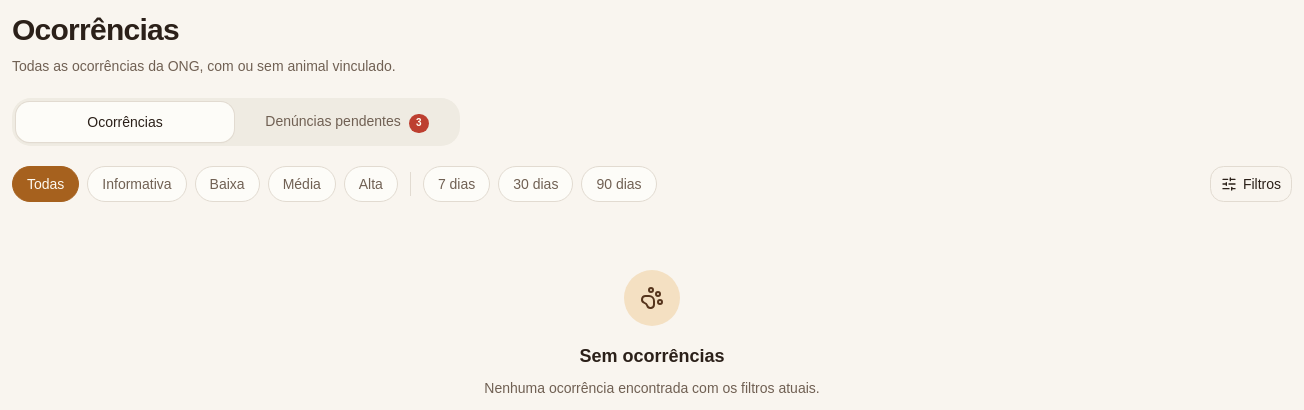
it: OccurrencesListPage › mostra aba de denúncias pendentes para quem tem public_reports.triage
This screenshot has width=1304, height=410.
Expected: the text "Sem denúncias" is not shown
Click the button "Denúncias pendentes 3": (347, 122) 238,102 -> 456,142
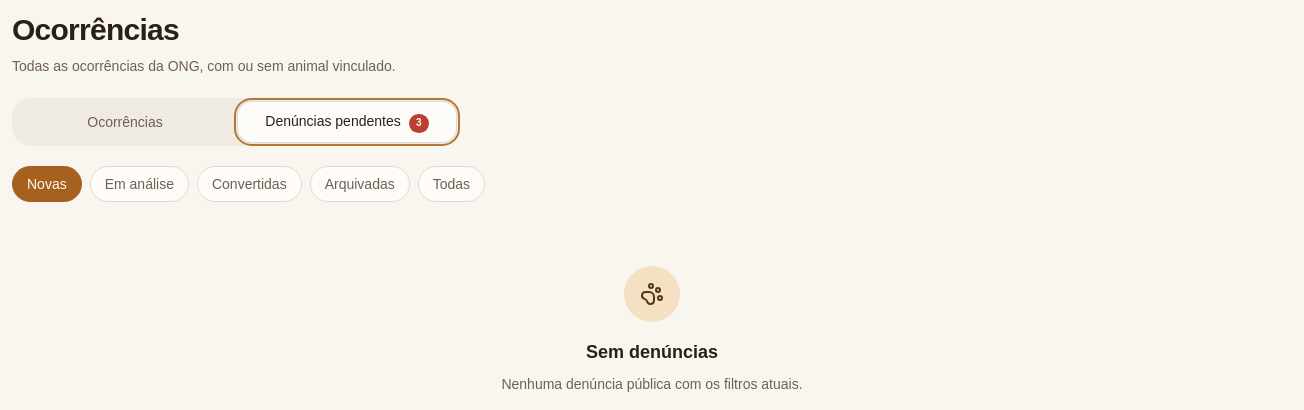
Expected: the heading "Sem denúncias" is shown, 586,342 -> 718,362
